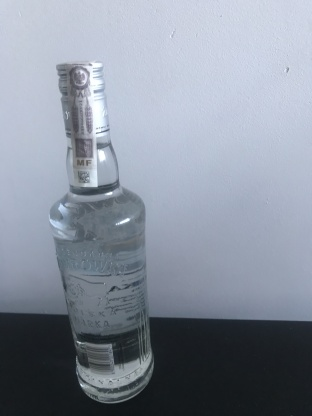nakretka: (54, 58, 112, 140)
